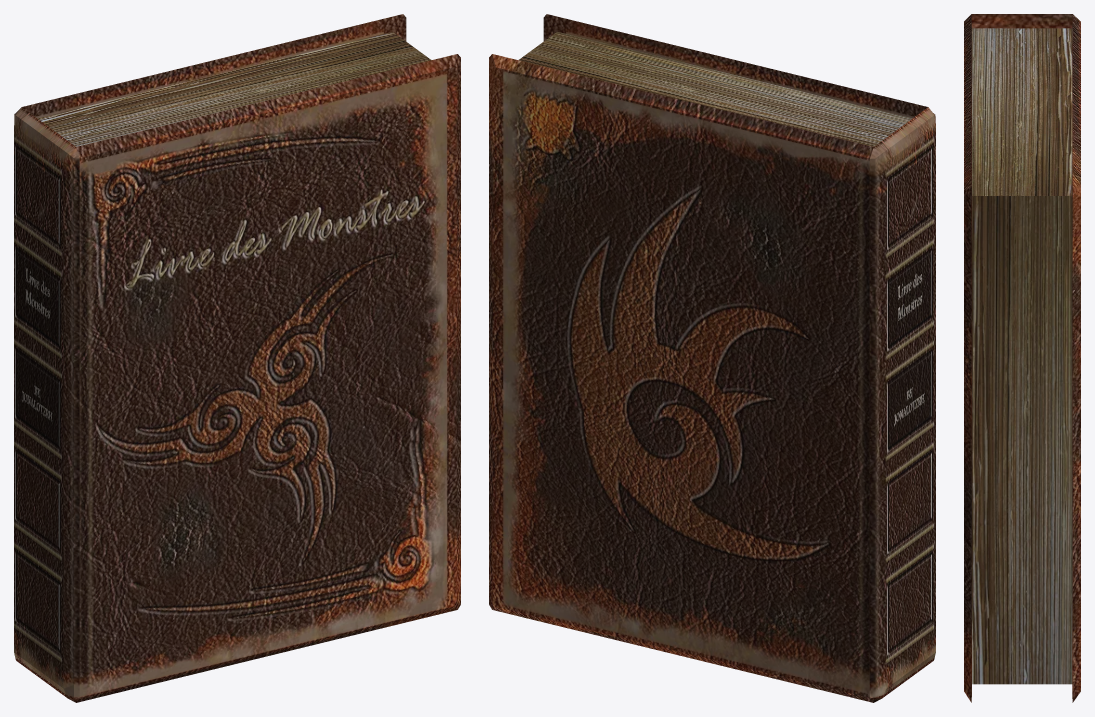
The picture shows the model from 3 angles, left to right: view 1: azimuth 30°, elevation 25°; view 2: azimuth 150°, elevation 25°; view 3: azimuth 270°, elevation 25°; orthographic projection. The views are drawn at different scales.
Parts seen in each view (by area): view 1: Cube; view 2: Cube; view 3: Cube.
Part boxes in pixels (left/top/right/bottom): Cube: left=14, top=14, right=460, bottom=702; Cube: left=489, top=14, right=935, bottom=702; Cube: left=964, top=14, right=1080, bottom=702.
Size of the model in its own units: 3.14 by 4.23 by 0.8668.
Materials: 1 (1 with a texture image).
